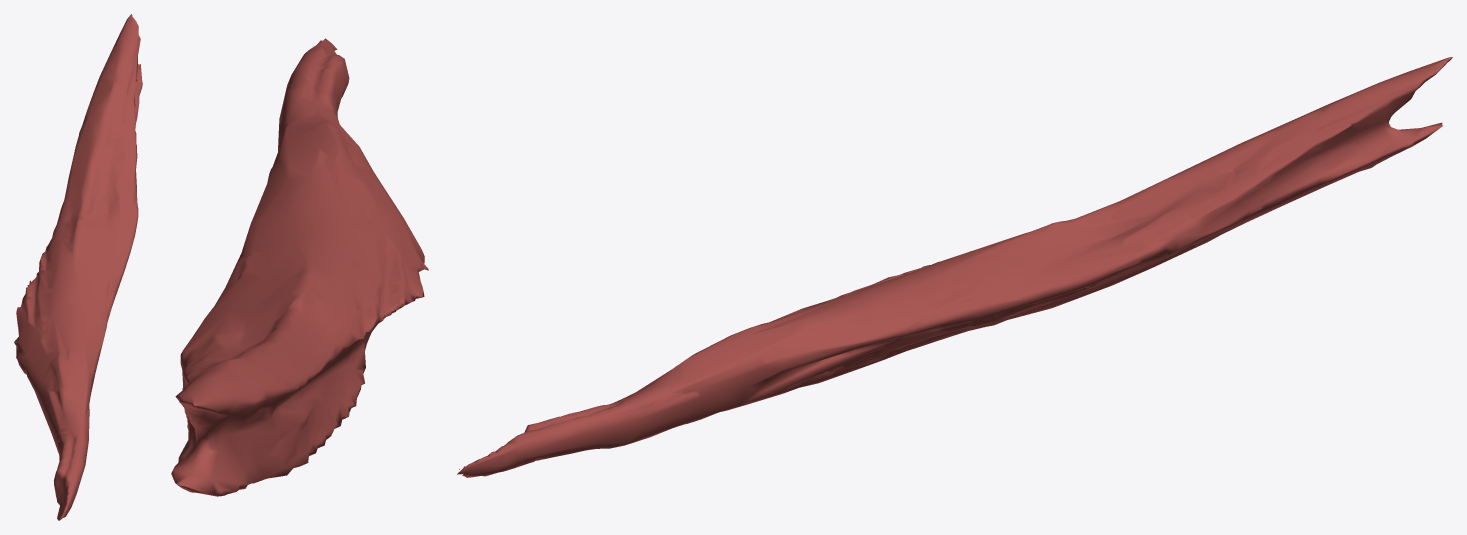
The model's file is FMA37483.glb.
The picture shows the model from 3 angles, left to right: view 1: azimuth 30°, elevation 25°; view 2: azimuth 210°, elevation 25°; view 3: azimuth 330°, elevation 25°; orthographic projection. The views are drawn at different scales.
Visible parts, largest first — view 1: FMA37483; view 2: FMA37483; view 3: FMA37483.
Boxes of the visible parts, left/top/right/bottom form: FMA37483: left=14, top=14, right=142, bottom=520; FMA37483: left=171, top=38, right=428, bottom=496; FMA37483: left=457, top=57, right=1452, bottom=477.
Size of the model in its own units: 0.0353 by 0.0141 by 0.0503.
